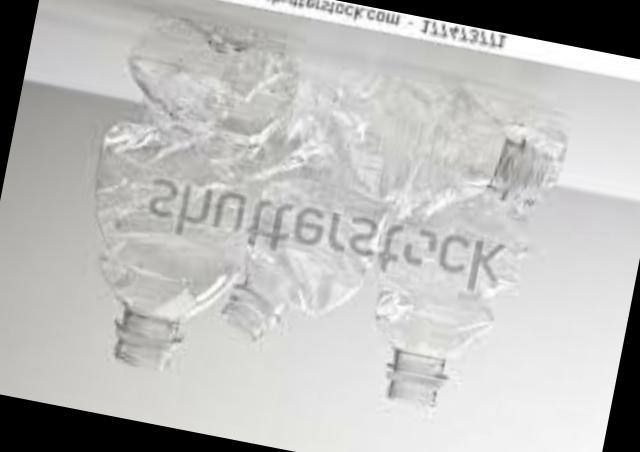plastic: (92, 19, 559, 407)
